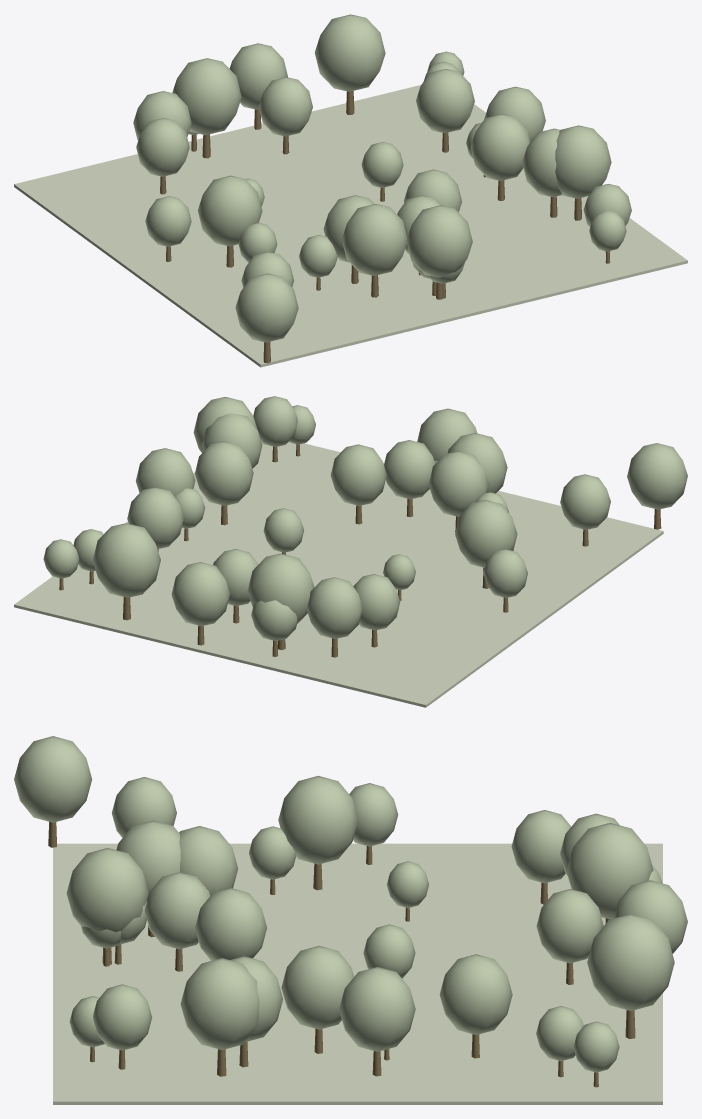
The picture shows the model from 3 angles, top to bottom: view 1: azimuth 30°, elevation 25°; view 2: azimuth 150°, elevation 25°; view 3: azimuth 270°, elevation 25°; orthographic projection. The views are drawn at different scales.
Parts seen in each view (by area): view 1: terrain, lod-near-14, lod-near-25, lod-near-11, lod-near-12, lod-near-2, lod-near-0, lod-near-26, lod-near-16, lod-near-18, lod-near-8, lod-near-29 (+14 smaller); view 2: terrain, lod-near-14, lod-near-2, lod-near-0, lod-near-25, lod-near-16, lod-near-28, lod-near-30, lod-near-20, lod-near-23, lod-near-18, lod-near-13 (+17 smaller); view 3: terrain, lod-near-14, lod-near-26, lod-near-25, lod-near-0, lod-near-11, lod-near-2, lod-near-31, lod-near-18, lod-near-16, lod-near-23, lod-near-8 (+17 smaller).
Part boxes in pixels (x1,y1,x2,y2): terrain: (14, 85, 687, 367); lod-near-14: (314, 14, 385, 91); lod-near-25: (172, 58, 241, 134); lod-near-11: (406, 205, 472, 277); lod-near-12: (342, 204, 407, 275); lod-near-2: (235, 273, 298, 342); lod-near-0: (197, 175, 262, 246); lod-near-26: (555, 125, 611, 198); lod-near-16: (470, 114, 530, 180); lod-near-18: (416, 69, 474, 133); lod-near-8: (258, 77, 312, 136); lod-near-29: (136, 118, 189, 176); terrain: (14, 442, 663, 707); lod-near-14: (92, 523, 160, 597); lod-near-2: (627, 443, 687, 509); lod-near-0: (455, 500, 517, 567); lod-near-25: (247, 553, 314, 623); lod-near-16: (195, 441, 253, 505); lod-near-28: (171, 562, 229, 626); lod-near-30: (428, 451, 488, 516); lod-near-20: (306, 577, 362, 638); lod-near-23: (330, 444, 386, 505); lod-near-18: (127, 487, 183, 548); lod-near-13: (384, 440, 435, 499); terrain: (53, 843, 662, 1104); lod-near-14: (587, 914, 674, 1010); lod-near-26: (180, 958, 259, 1049); lod-near-25: (566, 822, 653, 919); lod-near-0: (278, 775, 358, 864); lod-near-11: (66, 848, 148, 932); lod-near-2: (14, 736, 92, 822); lod-near-31: (339, 967, 415, 1051); lod-near-18: (439, 954, 512, 1034); lod-near-16: (281, 945, 353, 1029); lod-near-23: (195, 888, 266, 960); lod-near-8: (536, 889, 603, 963).
Size of the model in its own units: 33.57 by 7.26 by 35.36.
